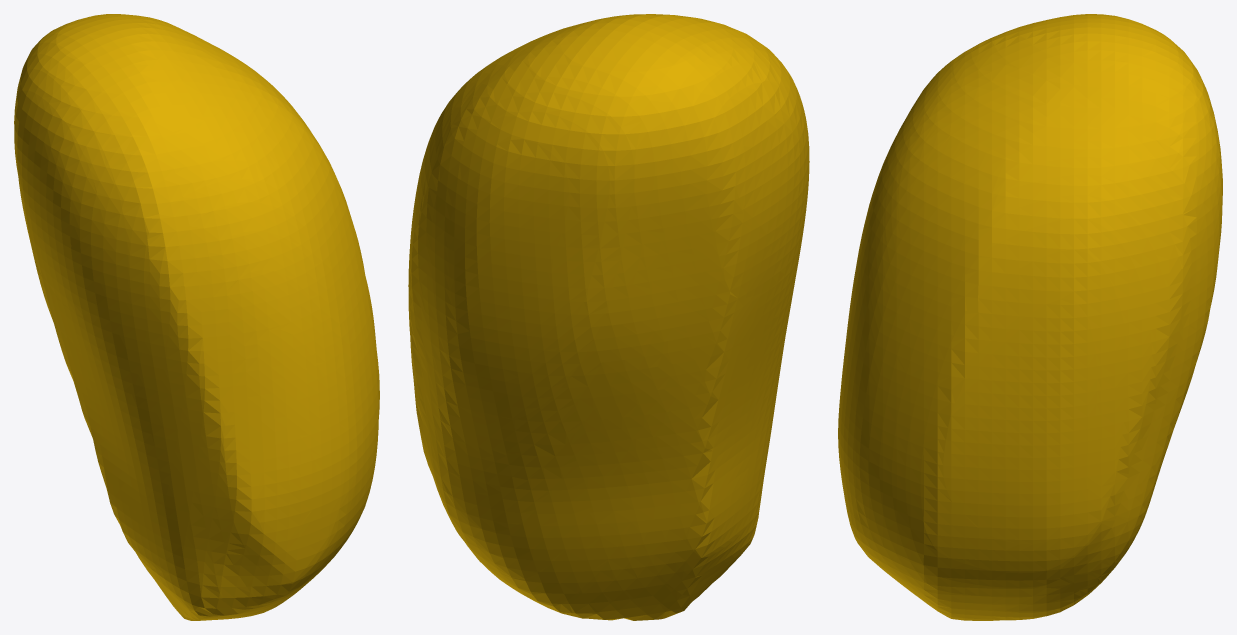
Rendered from hand_part_12.glb.
3 views of the same model, side by side, from view 1: azimuth 30°, elevation 25°; view 2: azimuth 150°, elevation 25°; view 3: azimuth 270°, elevation 25° (orthographic). The views are drawn at different scales.
Bounding box in the file's own units: 0.0147 × 0.0262 × 0.0164.
